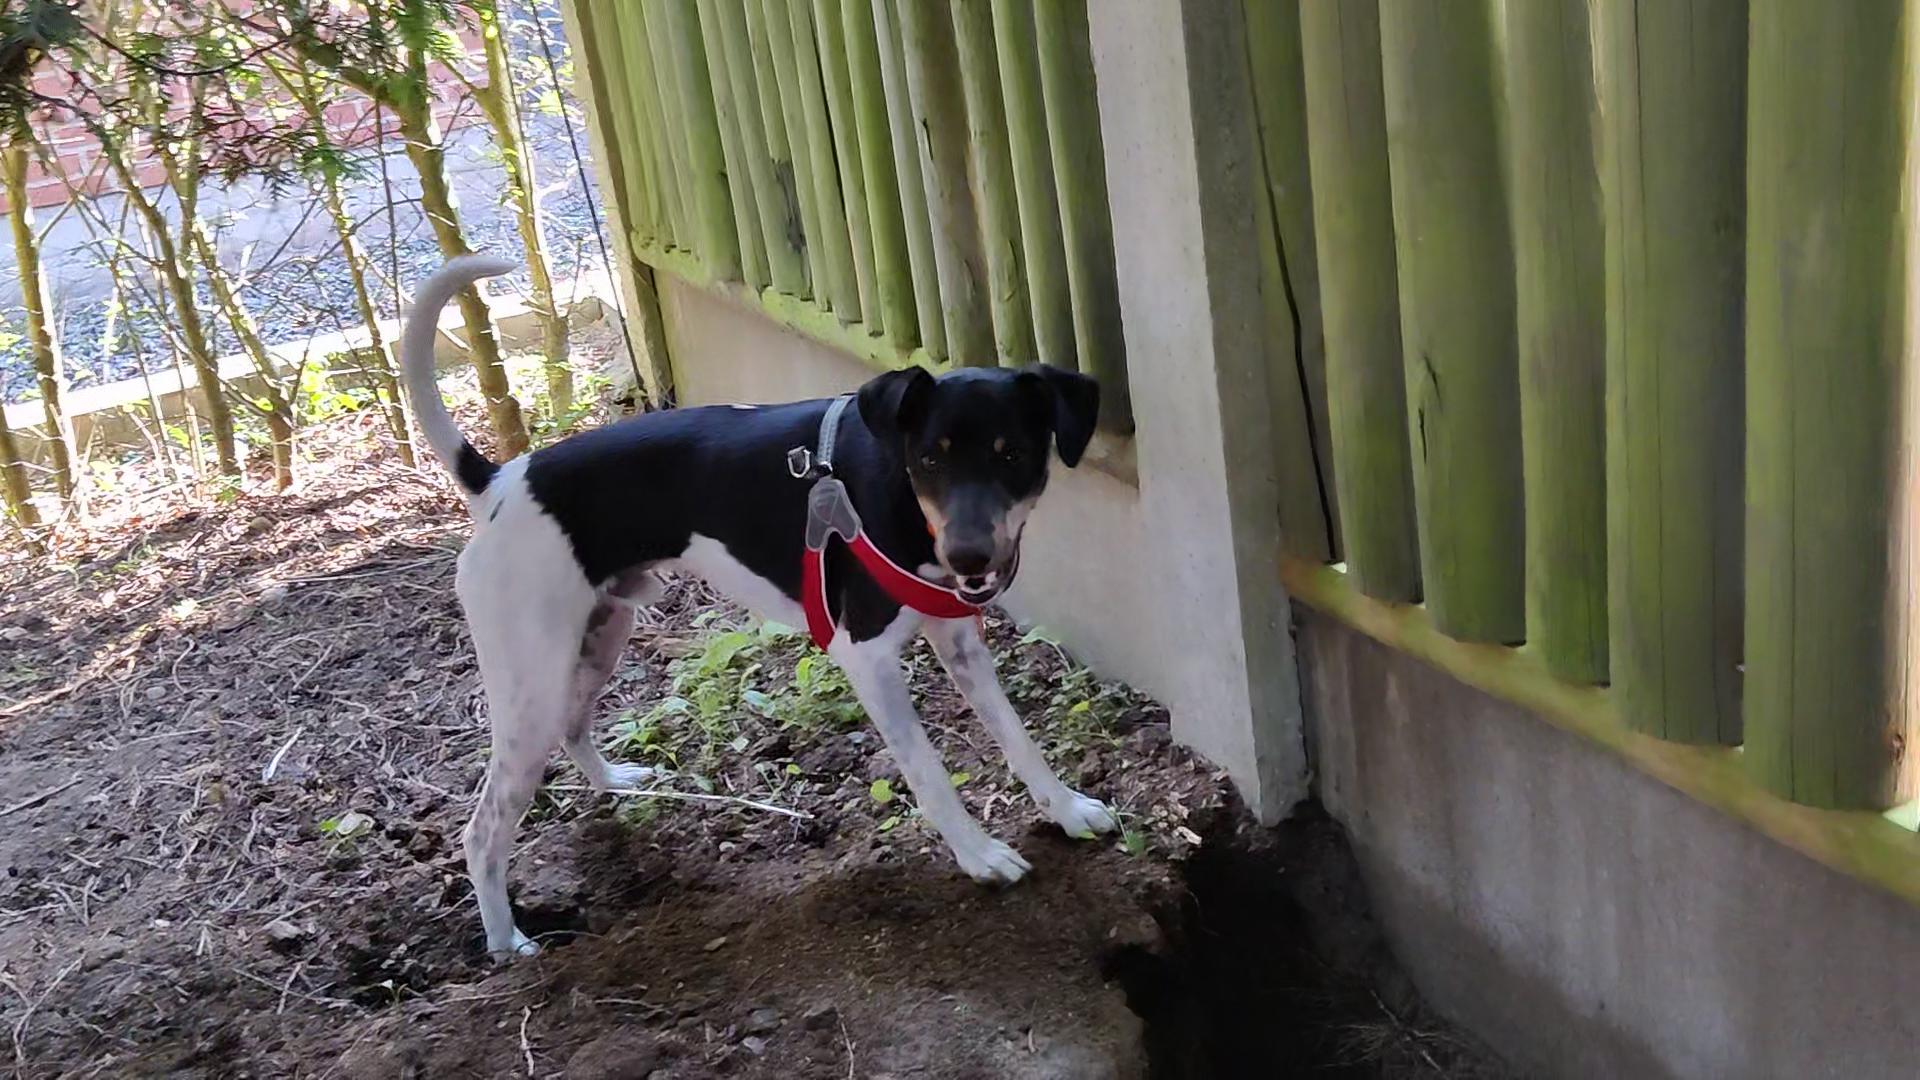Dog: (389, 235, 1142, 973)
